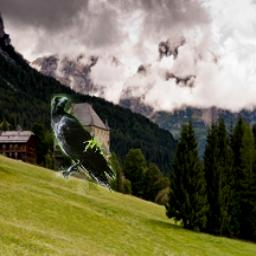Crow: (50, 94, 115, 195)
